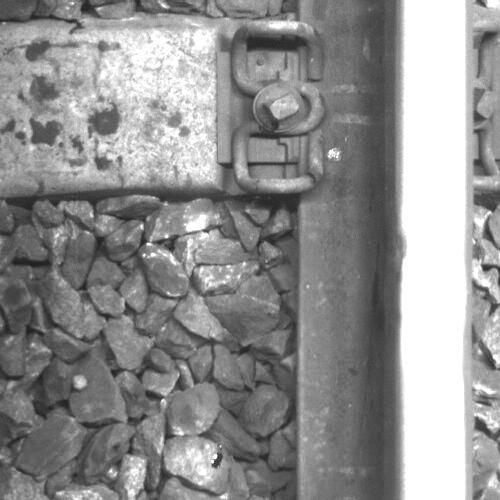rail: (399, 1, 471, 500)
tie_concr: (1, 32, 297, 187)
vossloh: (216, 17, 326, 193)
